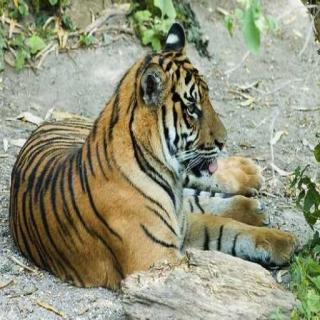Tiger: (7, 16, 304, 293)
